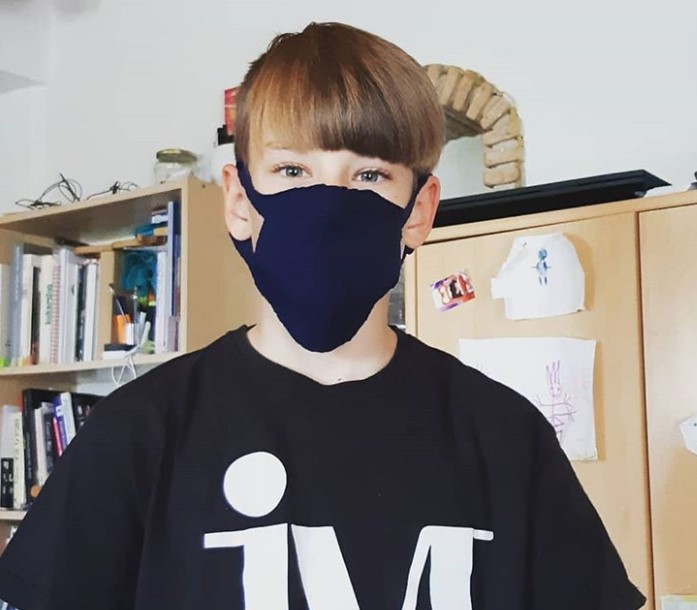face_with_mask: (223, 30, 440, 351)
